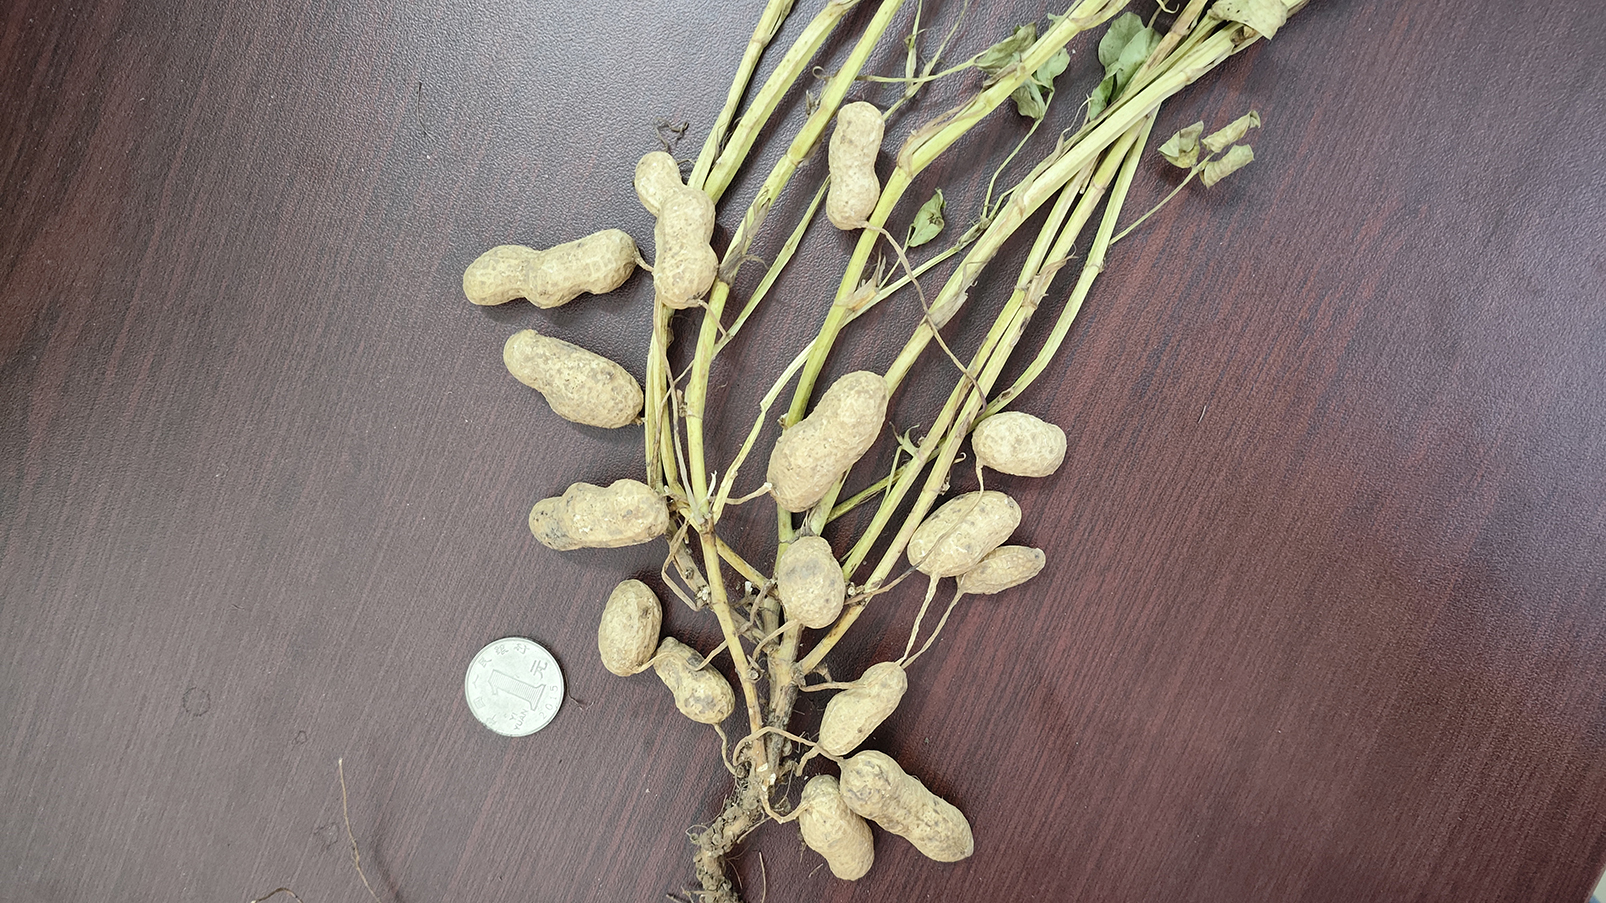h: (765, 370, 890, 512), (838, 750, 976, 859), (461, 228, 636, 311), (502, 327, 643, 428), (633, 151, 718, 309), (527, 476, 670, 551), (904, 490, 1021, 577), (820, 662, 908, 755), (800, 774, 875, 879), (825, 100, 884, 228), (653, 638, 734, 723), (777, 533, 847, 628), (970, 411, 1068, 477), (598, 577, 662, 675), (954, 542, 1046, 595)
